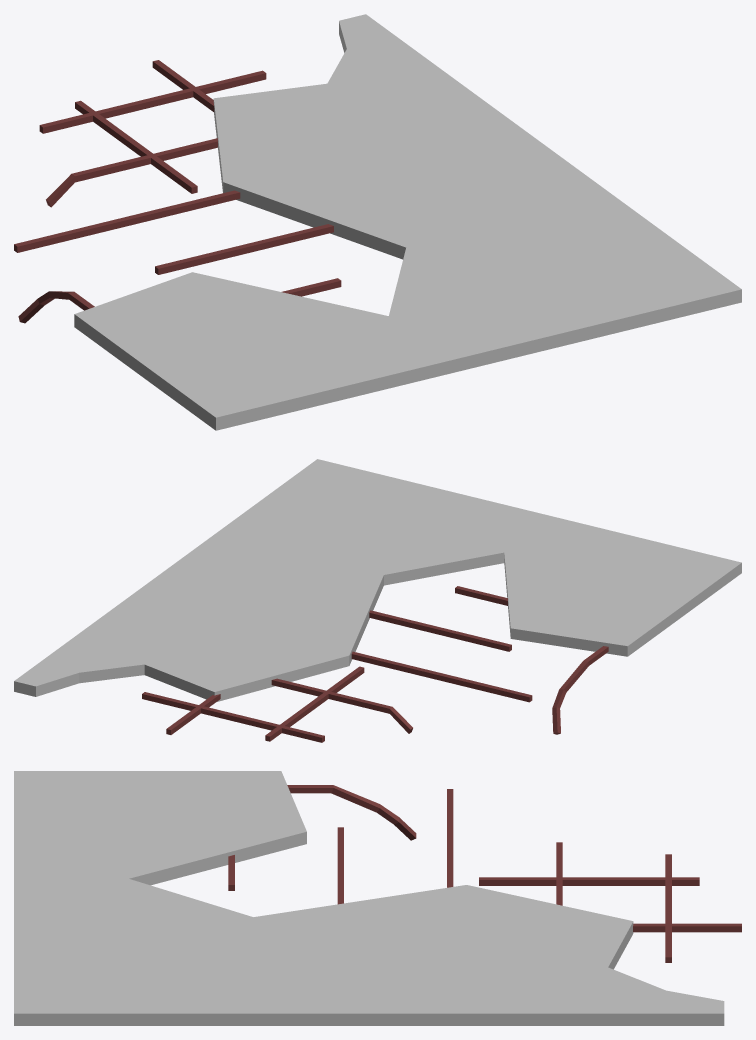
Rendered from LightStoneFloorLargeBrokenConcreteFloor4.fbx.
3 views of the same model, one above another, from view 1: azimuth 30°, elevation 25°; view 2: azimuth 150°, elevation 25°; view 3: azimuth 270°, elevation 25° (orthographic). The views are drawn at different scales.
Visible parts, largest first — view 1: LightStoneFloorLargeBrokenConcreteFloor4; view 2: LightStoneFloorLargeBrokenConcreteFloor4; view 3: LightStoneFloorLargeBrokenConcreteFloor4.
Part boxes in pixels (x1,y1,x2,y2): LightStoneFloorLargeBrokenConcreteFloor4: (14, 14, 741, 430); LightStoneFloorLargeBrokenConcreteFloor4: (14, 459, 741, 742); LightStoneFloorLargeBrokenConcreteFloor4: (14, 771, 741, 1025).
Size of the model in its own units: 1050 by 123 by 1332.
2 materials, 2 textured.
